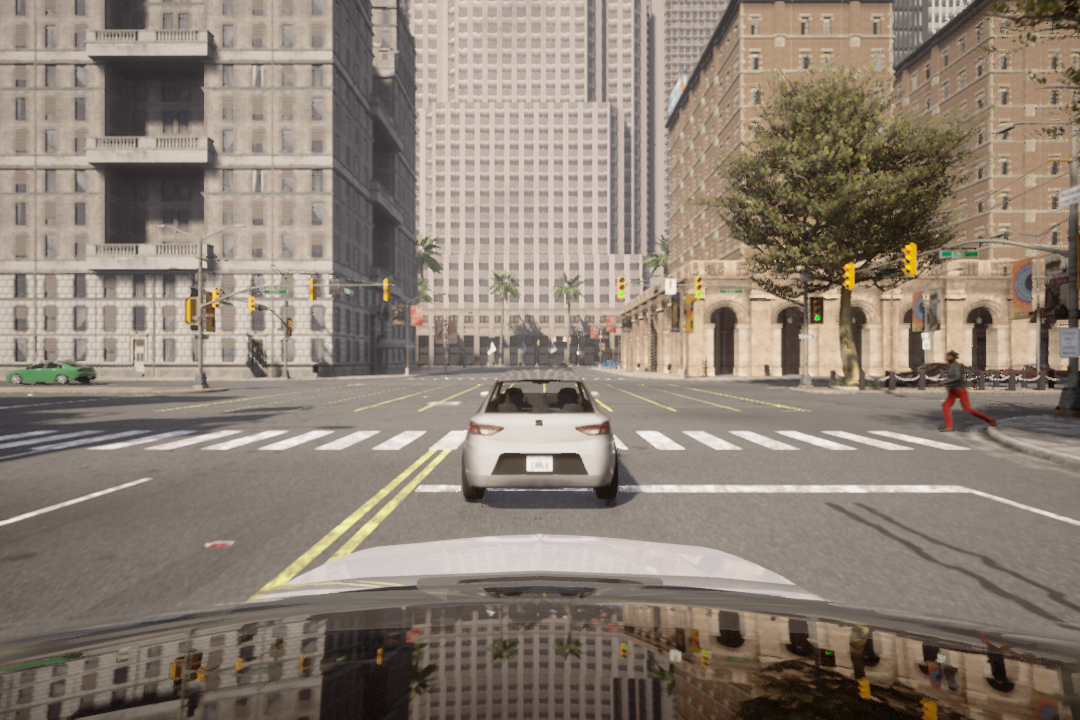TrafficLight: (837, 261, 860, 295), (899, 241, 918, 279), (612, 275, 629, 306), (694, 273, 707, 301)
walkside: (4, 424, 1033, 462)
